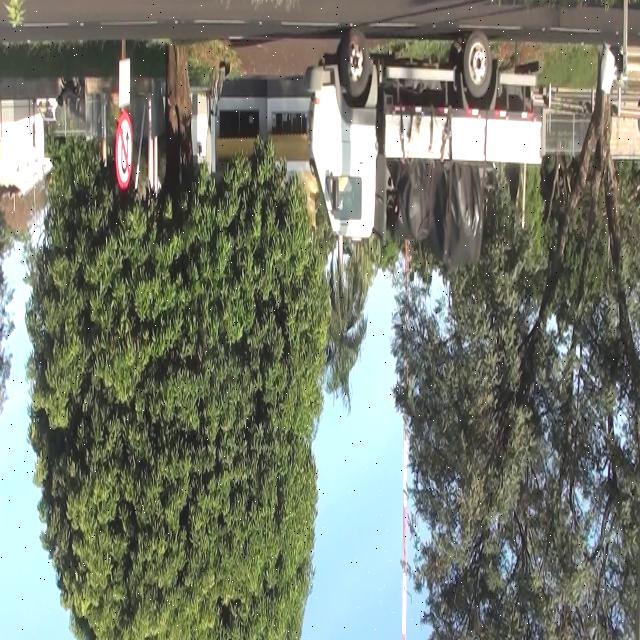-axle: (340, 29, 368, 99), (462, 38, 492, 99)
